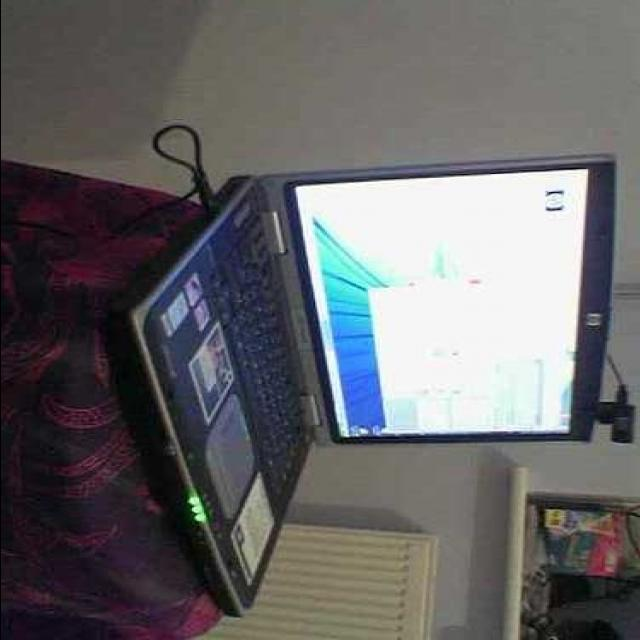laptop: (123, 135, 608, 558)
